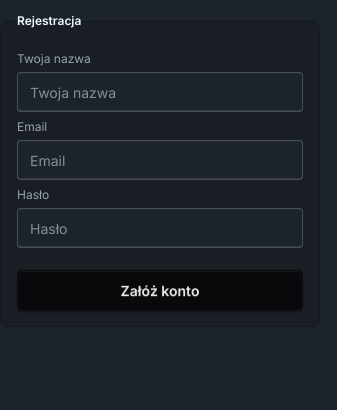
SignUpForm component › shows a min-length error for a too short password
The image size is (337, 410).
Type "short" into the password field labelled "Hasło" at {"x": 160, "y": 228}, box [17,208,303,248]
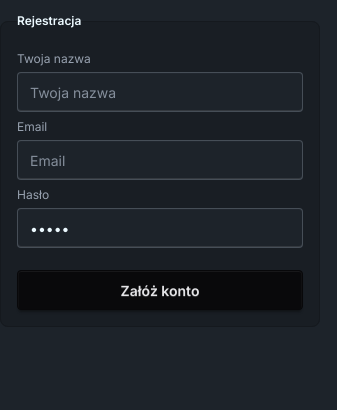
Click the button "Załóż konto" at {"x": 160, "y": 290}, box [17,270,303,310]
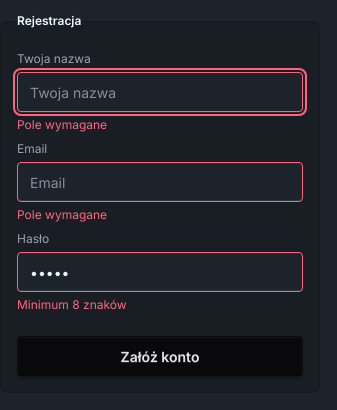
Now the text "Minimum 8 znaków" is shown, box [17,297,127,312]
